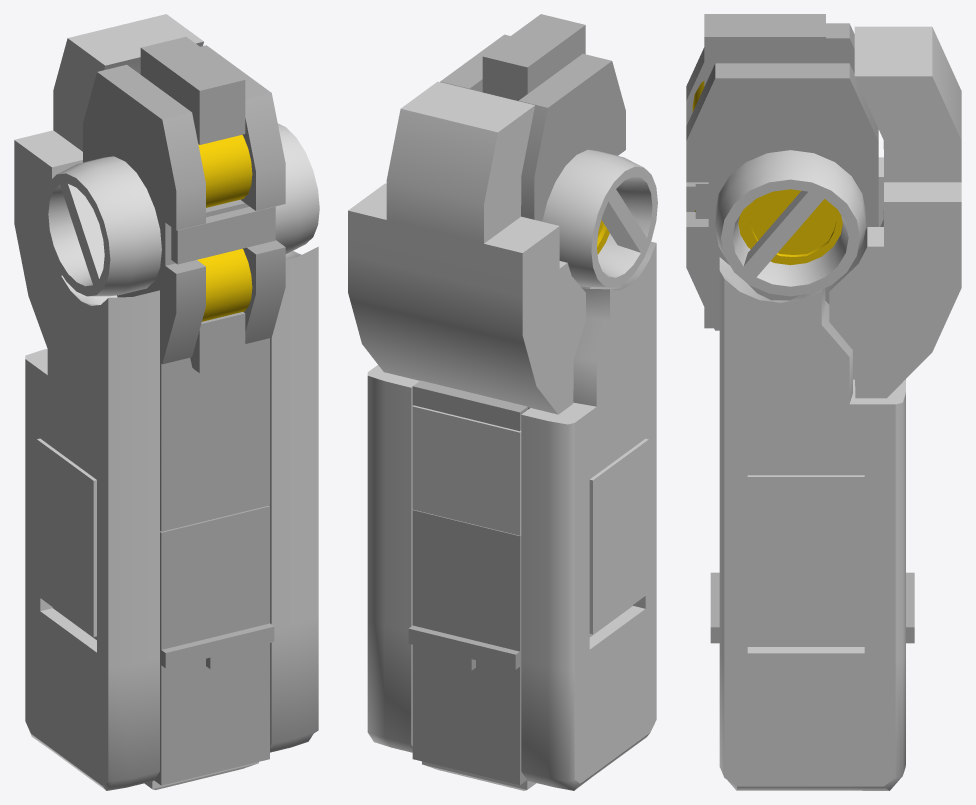
The model's file is dlefthand.fbx.
The picture shows the model from 3 angles, left to right: view 1: azimuth 30°, elevation 25°; view 2: azimuth 150°, elevation 25°; view 3: azimuth 270°, elevation 25°; orthographic projection. The views are drawn at different scales.
Parts seen in each view (by area): view 1: dlefthand; view 2: dlefthand; view 3: dlefthand.
Part boxes in pixels (x1,y1,x2,y2): dlefthand: [14, 14, 319, 790]; dlefthand: [348, 14, 657, 790]; dlefthand: [686, 14, 961, 790].
Bounding box in the file's own units: 186 × 582 × 198.
